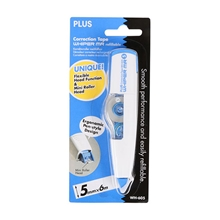Correction_fluid: (101, 46, 140, 196)
